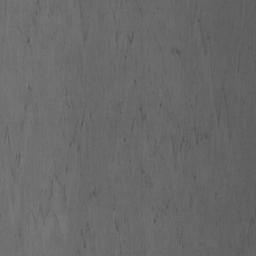Silk spot: (102, 0, 256, 248), (0, 88, 128, 256), (17, 0, 89, 56), (0, 70, 41, 147), (229, 176, 256, 255), (191, 4, 211, 54)
